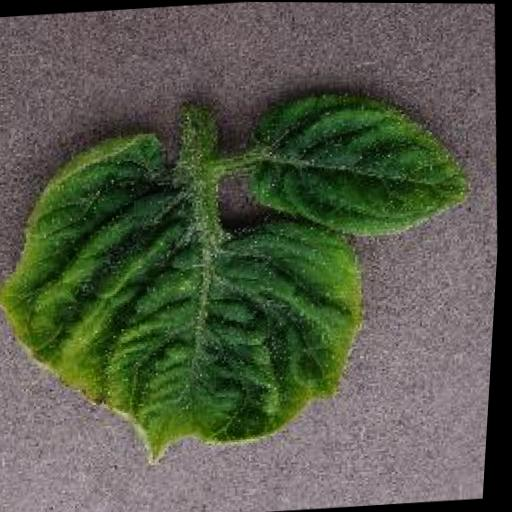Yellow Leaf Curl Virus: (0, 111, 386, 477), (236, 81, 474, 247)
